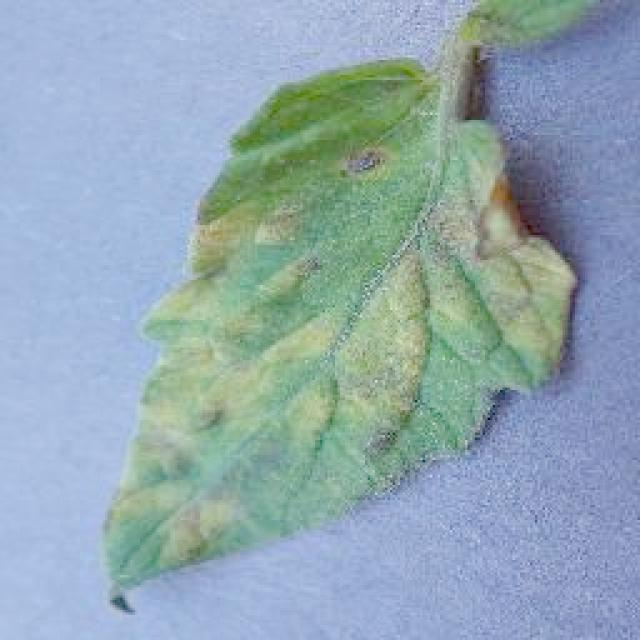Tomato mold leaf: (97, 56, 581, 602)
